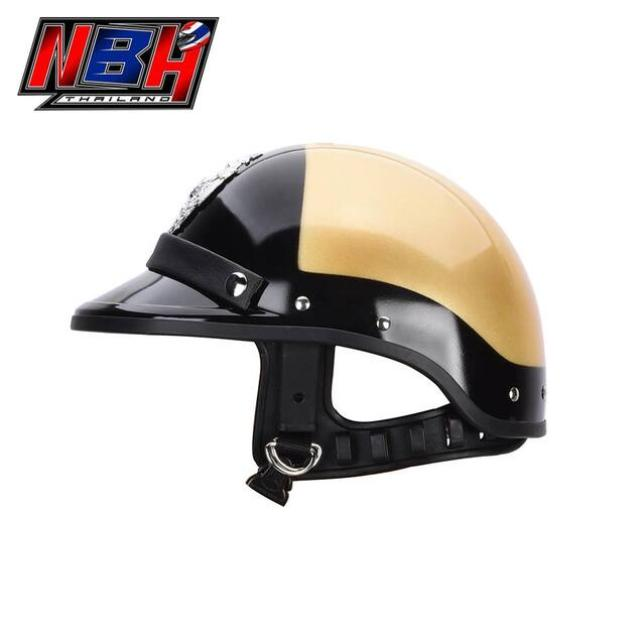Helmet: (68, 138, 552, 507)
